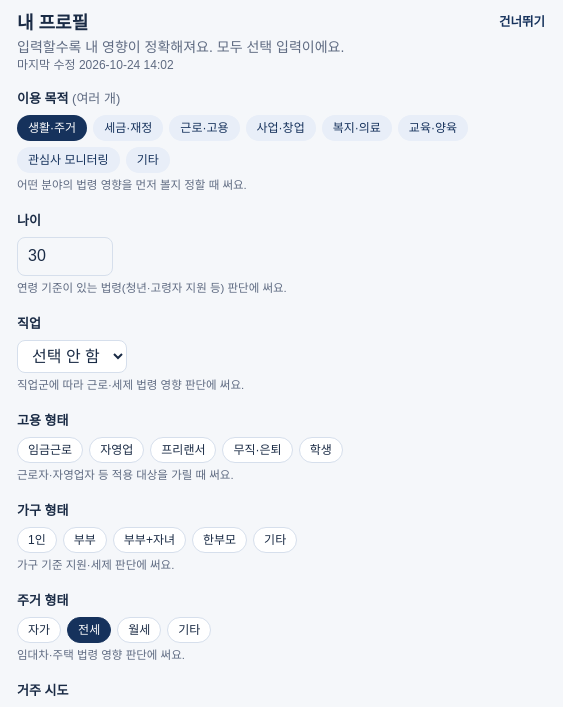
Test case: ProfileScreen › 숫자가 아닌 나이 입력(badInput)은 빈 값으로 오인해 보내지 않는다 — 저장된 나이 보호
Replace the text in the number field labelled "나이" with "e": (65, 256) [17, 237, 113, 276]
(page scrolled)
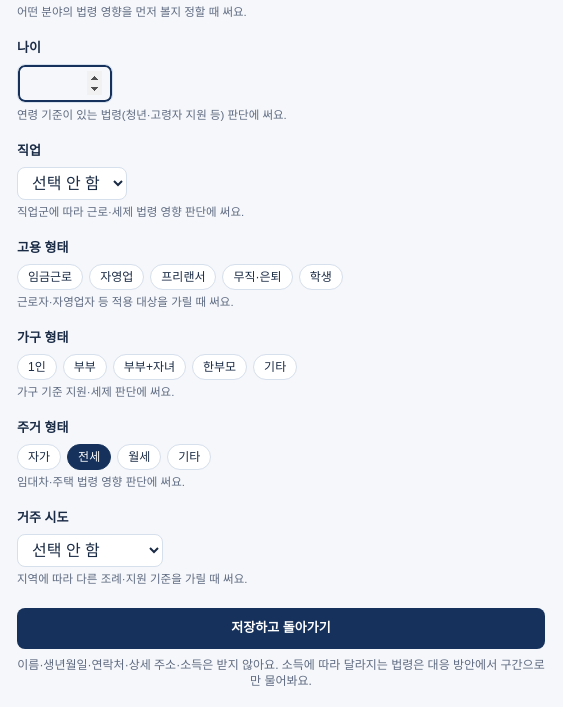
Click the button "저장하고 돌아가기": (281, 629) [17, 608, 545, 649]
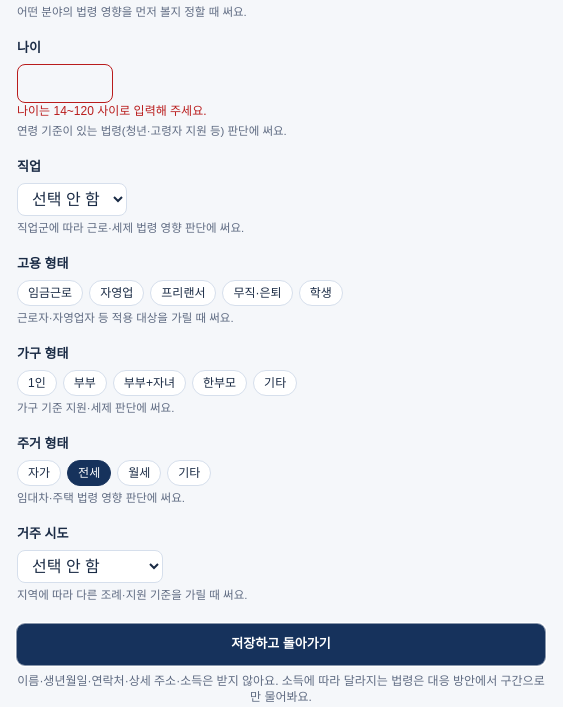
Check: the text "나이는 14~120 사이로 입력해 주세요." is shown, box [17, 104, 206, 118]
